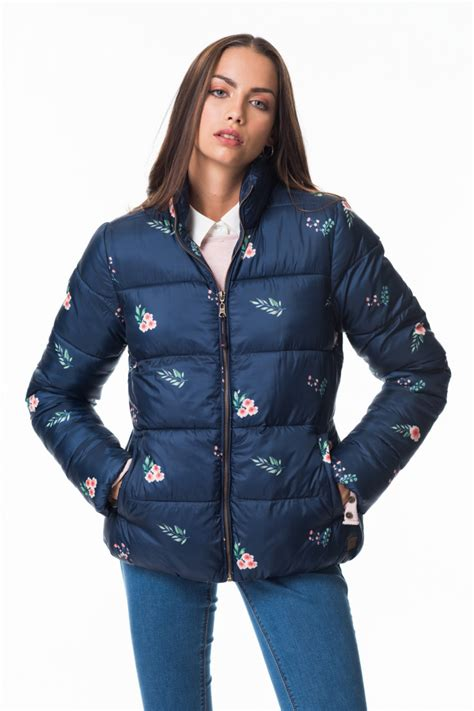nylon: (24, 171, 450, 583)
